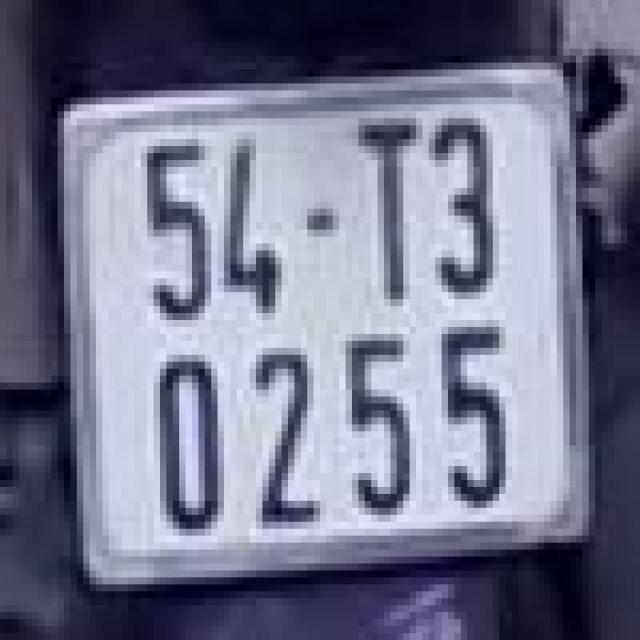0: (141, 348, 230, 542)
2: (240, 331, 336, 546)
3: (422, 101, 506, 302)
4: (211, 121, 288, 316)
5: (132, 118, 215, 327), (432, 313, 515, 515), (342, 327, 420, 522)
T: (348, 108, 426, 309)
